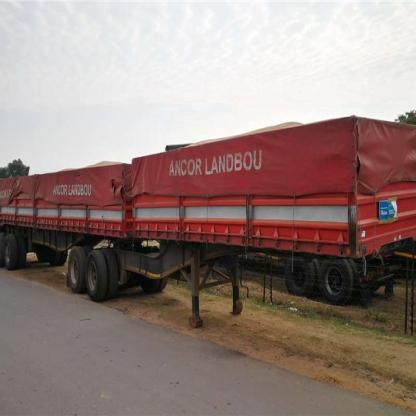dump_truck: (6, 121, 319, 355)
